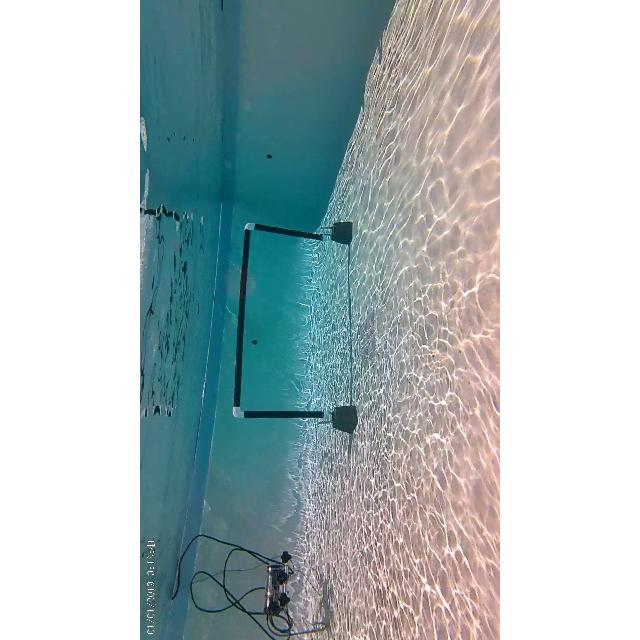prequal gate: (232, 222, 330, 420)
prequal gate leg l: (226, 406, 332, 420)
prequal gate leg r: (242, 220, 332, 242)
